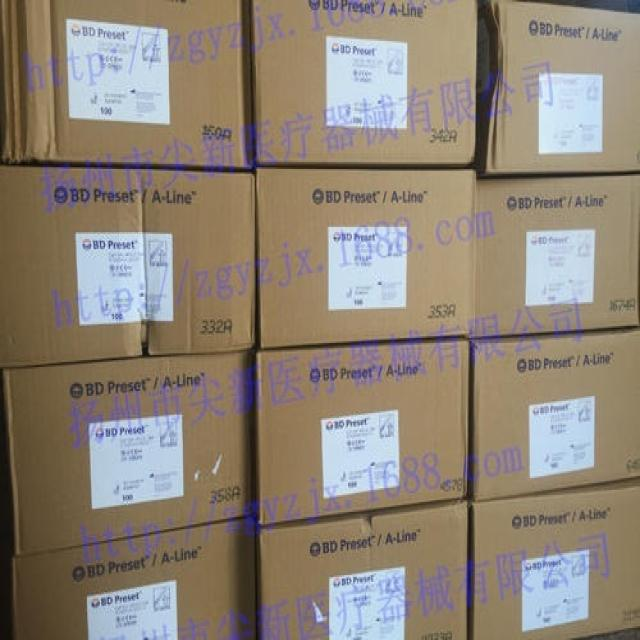box: (0, 164, 256, 372), (1, 352, 256, 556), (0, 0, 253, 171), (255, 169, 475, 350), (256, 338, 470, 524), (253, 0, 477, 164), (13, 515, 256, 638), (257, 498, 467, 640), (470, 328, 639, 500), (477, 2, 639, 179), (467, 476, 640, 640), (474, 174, 639, 338)
